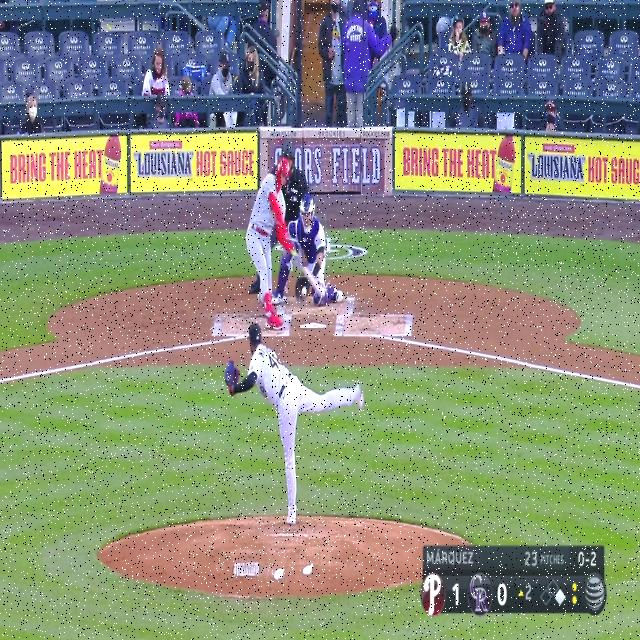baseball: (300, 286, 308, 298)
